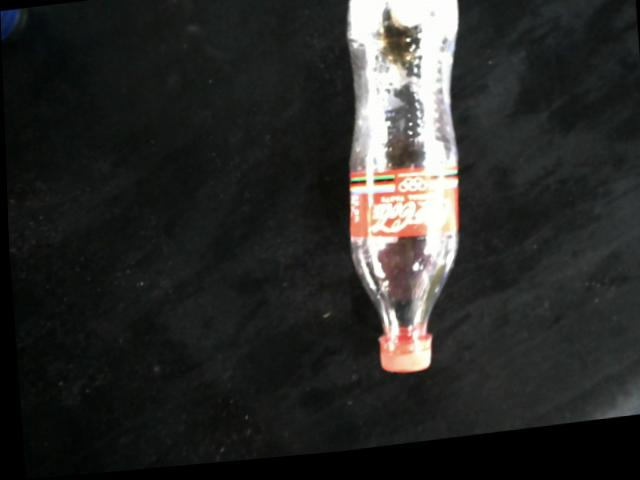bottle: (345, 0, 460, 381)
